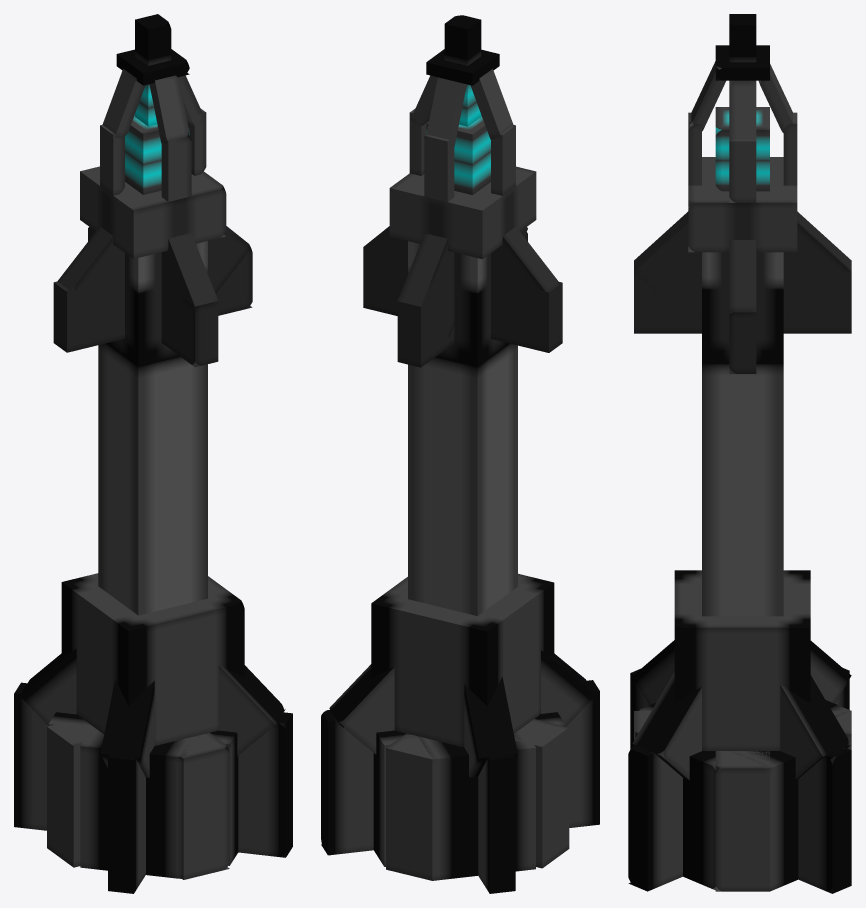
Rendered from missile_antimatter.obj.
3 renders of one model, left to right at view 1: azimuth 30°, elevation 25°; view 2: azimuth 150°, elevation 25°; view 3: azimuth 270°, elevation 25°, orthographic.
Parts seen in each view (by area): view 1: Shape36, Shape4a, Shape3, Shape1, Shape5a, Shape12, Shape13, Shape11a, Shape4, Shape2e, Shape11b, Shape14 (+13 smaller); view 2: Shape36, Shape4a, Shape4, Shape2, Shape5a, Shape11a, Shape12, Shape14, Shape3, Shape2e, Shape10b, Shape13 (+13 smaller); view 3: Shape36, Shape4a, Shape11b, Shape2e, Shape4, Shape3, Shape5a, Shape14, Shape13, Shape2, Shape1, Shape10b.001 (+13 smaller).
Part boxes in pixels (x1=…): Shape36: x1=98, y1=241, x2=207, y2=615; Shape4a: x1=61, y1=573, x2=244, y2=745; Shape3: x1=14, y1=682, x2=292, y2=857; Shape1: x1=80, y1=726, x2=190, y2=878; Shape5a: x1=80, y1=166, x2=226, y2=258; Shape12: x1=178, y1=732, x2=229, y2=879; Shape13: x1=19, y1=649, x2=285, y2=755; Shape11a: x1=53, y1=244, x2=252, y2=352; Shape4: x1=108, y1=755, x2=145, y2=893; Shape2e: x1=47, y1=724, x2=90, y2=867; Shape11b: x1=88, y1=228, x2=218, y2=367; Shape14: x1=100, y1=679, x2=154, y2=777; Shape36: x1=408, y1=241, x2=517, y2=615; Shape4a: x1=371, y1=573, x2=554, y2=747; Shape4: x1=321, y1=680, x2=599, y2=855; Shape2: x1=418, y1=728, x2=535, y2=880; Shape5a: x1=389, y1=166, x2=536, y2=259; Shape11a: x1=363, y1=247, x2=562, y2=352; Shape12: x1=386, y1=733, x2=437, y2=880; Shape14: x1=329, y1=650, x2=595, y2=754; Shape3: x1=478, y1=754, x2=515, y2=893; Shape2e: x1=514, y1=719, x2=569, y2=868; Shape10b: x1=398, y1=233, x2=454, y2=337; Shape13: x1=464, y1=677, x2=517, y2=777; Shape36: x1=702, y1=252, x2=783, y2=616; Shape4a: x1=674, y1=570, x2=810, y2=750; Shape11b: x1=634, y1=272, x2=851, y2=333; Shape2e: x1=715, y1=751, x2=769, y2=891; Shape4: x1=630, y1=668, x2=851, y2=893; Shape3: x1=628, y1=668, x2=849, y2=891; Shape5a: x1=688, y1=157, x2=797, y2=252; Shape14: x1=632, y1=640, x2=850, y2=779; Shape13: x1=632, y1=641, x2=851, y2=780; Shape2: x1=683, y1=700, x2=851, y2=890; Shape1: x1=635, y1=703, x2=798, y2=891; Shape10b.001: x1=634, y1=211, x2=701, y2=319.
Size of the model in its own units: 1.04 by 4.19 by 1.03.
